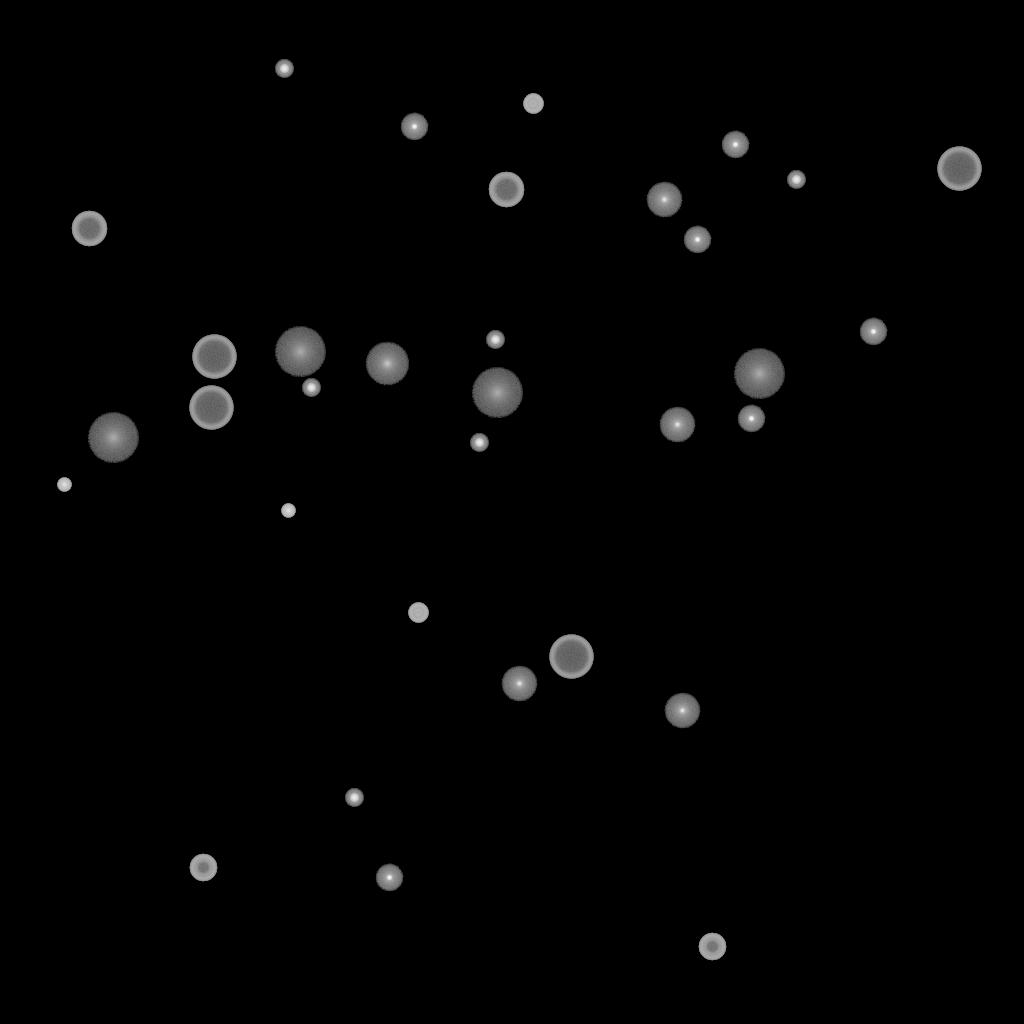depth:-10: (400, 113, 428, 141), (683, 226, 711, 254), (737, 405, 765, 433), (375, 864, 403, 892), (721, 131, 749, 159), (859, 318, 887, 346)
depth:-20: (302, 379, 320, 397), (275, 60, 293, 78), (345, 789, 363, 807), (486, 331, 504, 349), (470, 434, 488, 452), (787, 171, 805, 189)
depth:-30: (281, 504, 295, 518), (57, 478, 71, 492)
depth:-40: (523, 94, 543, 114), (408, 603, 428, 623)
depth:-50: (189, 854, 217, 882), (698, 933, 726, 961)
depth:-60: (488, 172, 524, 208), (71, 211, 107, 247)
depth:-70: (937, 147, 981, 191), (189, 386, 233, 430), (192, 335, 236, 379), (549, 635, 593, 679)
depth:0: (501, 666, 537, 702), (646, 182, 682, 218), (664, 693, 700, 729), (659, 407, 695, 443)
depth:10: (365, 342, 409, 386)
depth:20: (471, 368, 523, 418), (733, 349, 785, 399), (274, 327, 326, 377), (87, 413, 139, 463)
